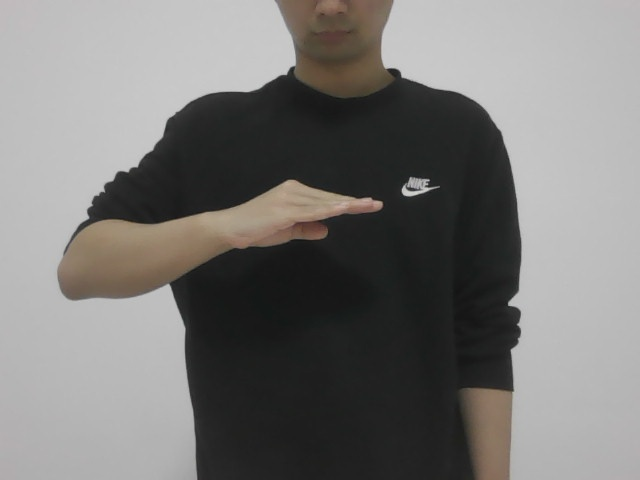late/night: (218, 168, 389, 266)
